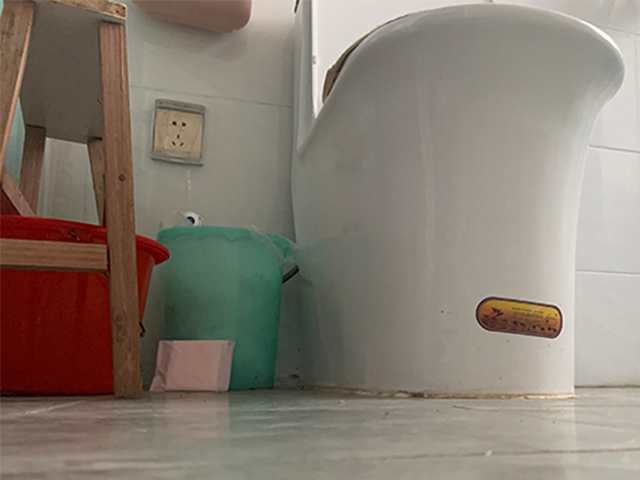closestool: (290, 1, 626, 400)
stool: (1, 1, 144, 400)
trashcan: (155, 224, 292, 392)
